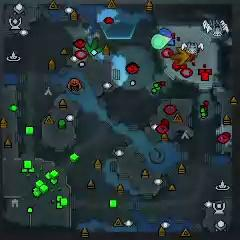p1: (158, 27, 175, 46)
p2: (152, 34, 172, 50)
x4: (86, 36, 103, 56)
x5: (171, 47, 189, 64)
